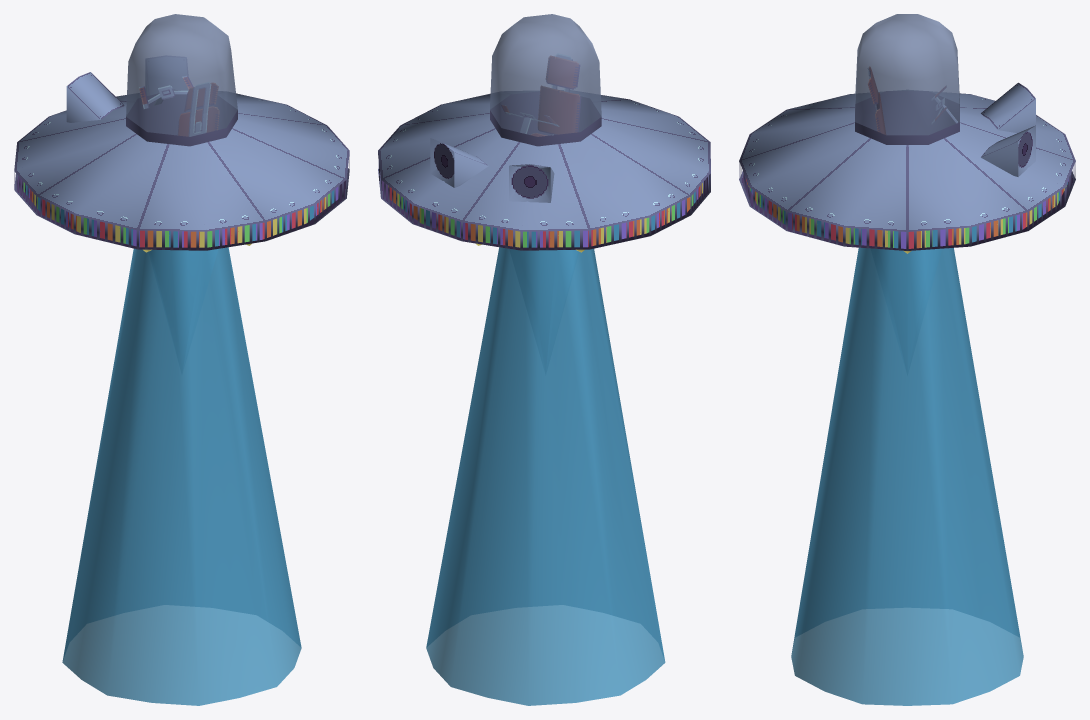
Rendered from ufo.gltf.
3 renders of one model, left to right at view 1: azimuth 30°, elevation 25°; view 2: azimuth 150°, elevation 25°; view 3: azimuth 270°, elevation 25°, orthographic.
Visible parts, largest first — view 1: beam, ufo, ring_light, speaker_left, seat, controls; view 2: beam, ufo, ring_light, seat, speaker_right, speaker_left; view 3: beam, ufo, ring_light, speaker_left, speaker_right.
Part boxes in pixels (x1=…): beam: x1=62, y1=247, x2=301, y2=705; ufo: x1=14, y1=14, x2=349, y2=250; ring_light: x1=23, y1=182, x2=338, y2=247; speaker_left: x1=66, y1=72, x2=124, y2=122; seat: x1=178, y1=82, x2=219, y2=136; controls: x1=139, y1=75, x2=193, y2=108; beam: x1=426, y1=247, x2=665, y2=705; ufo: x1=378, y1=14, x2=710, y2=250; ring_light: x1=388, y1=183, x2=702, y2=247; seat: x1=531, y1=53, x2=580, y2=136; speaker_right: x1=430, y1=138, x2=488, y2=187; speaker_left: x1=509, y1=164, x2=554, y2=202; beam: x1=791, y1=247, x2=1023, y2=705; ufo: x1=739, y1=14, x2=1075, y2=250; ring_light: x1=746, y1=179, x2=1068, y2=248; speaker_left: x1=981, y1=82, x2=1035, y2=132; speaker_right: x1=981, y1=125, x2=1035, y2=176.
Size of the model in its own units: 4 by 8.31 by 4.
3 materials, 3 textured.
